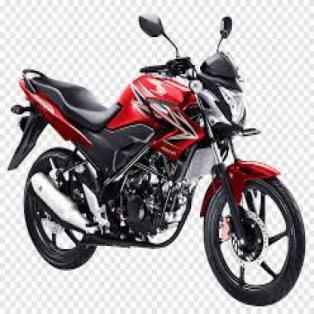Motocicleta: (7, 3, 306, 306)
